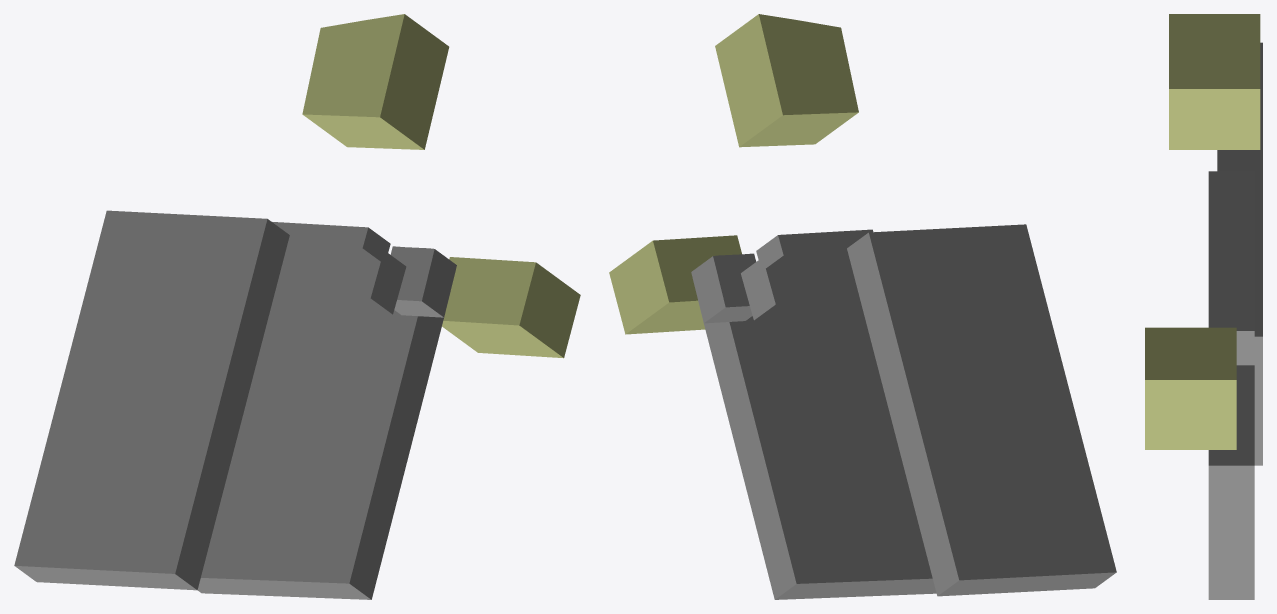
3 views of the same model, side by side, from view 1: azimuth 30°, elevation 25°; view 2: azimuth 150°, elevation 25°; view 3: azimuth 270°, elevation 25° (orthographic). The views are drawn at different scales.
Parts seen in each view (by area): view 1: 0_2_1_3_0_0_0_2_2; view 2: 0_2_1_3_0_0_0_2_2; view 3: 0_2_1_3_0_0_0_2_2.
Part boxes in pixels (x1,y1,x2,y2): 0_2_1_3_0_0_0_2_2: (14, 14, 580, 599); 0_2_1_3_0_0_0_2_2: (609, 14, 1116, 599); 0_2_1_3_0_0_0_2_2: (1145, 14, 1262, 599).
Size of the model in its own units: 39.45 by 41.48 by 7.73.
